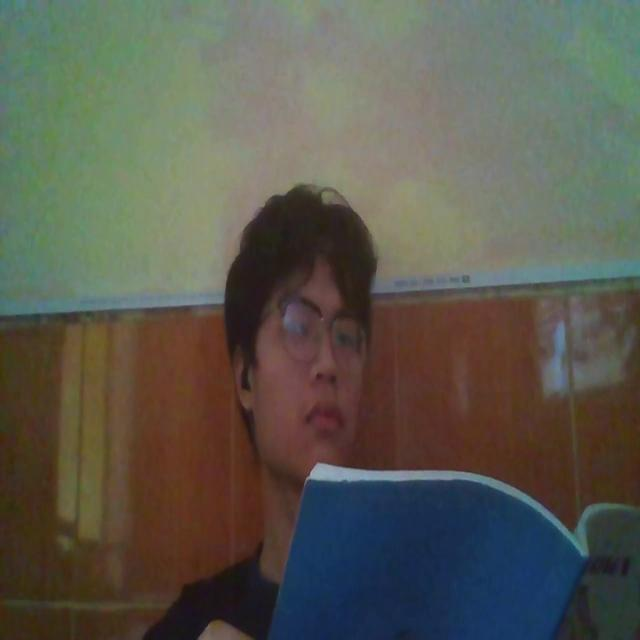book: (263, 450, 640, 640)
student: (138, 166, 378, 640)
